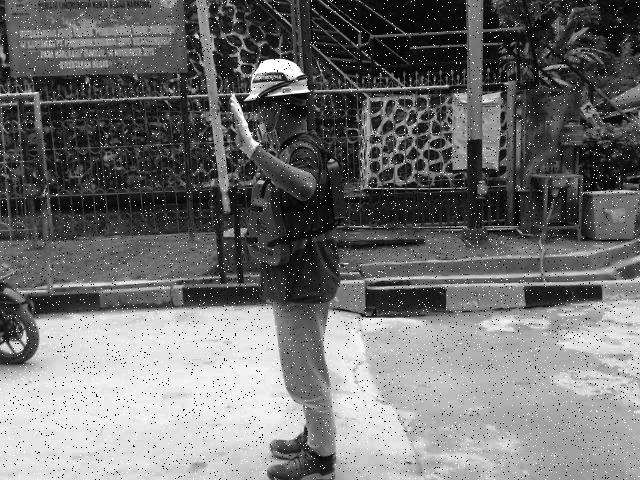gloves: (225, 86, 261, 163)
helmet: (243, 57, 315, 103)
mask: (256, 116, 284, 145)
safety-shoes: (267, 448, 337, 479), (268, 430, 313, 460)
vest: (244, 160, 349, 263)
